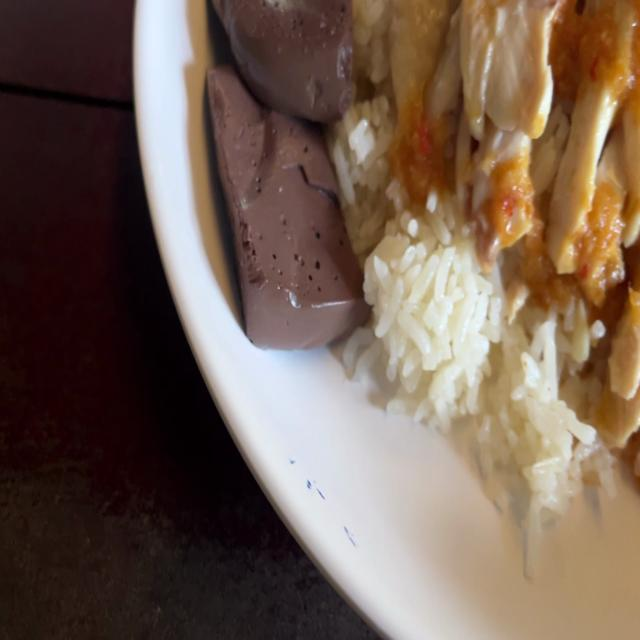chicken_rice: (361, 0, 640, 414)
noodle: (211, 55, 352, 354), (197, 0, 351, 127)
